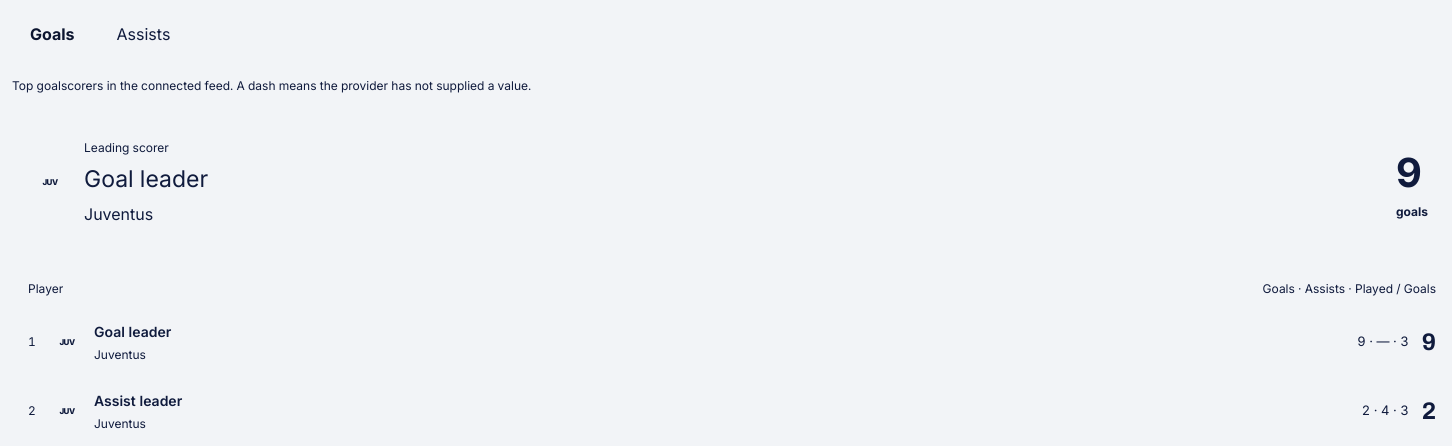
Test: business and player controls › switches to reported assists and excludes unknown values
Step 1. Click the button "Assists" → click(144, 34), box [99,12,188,56]
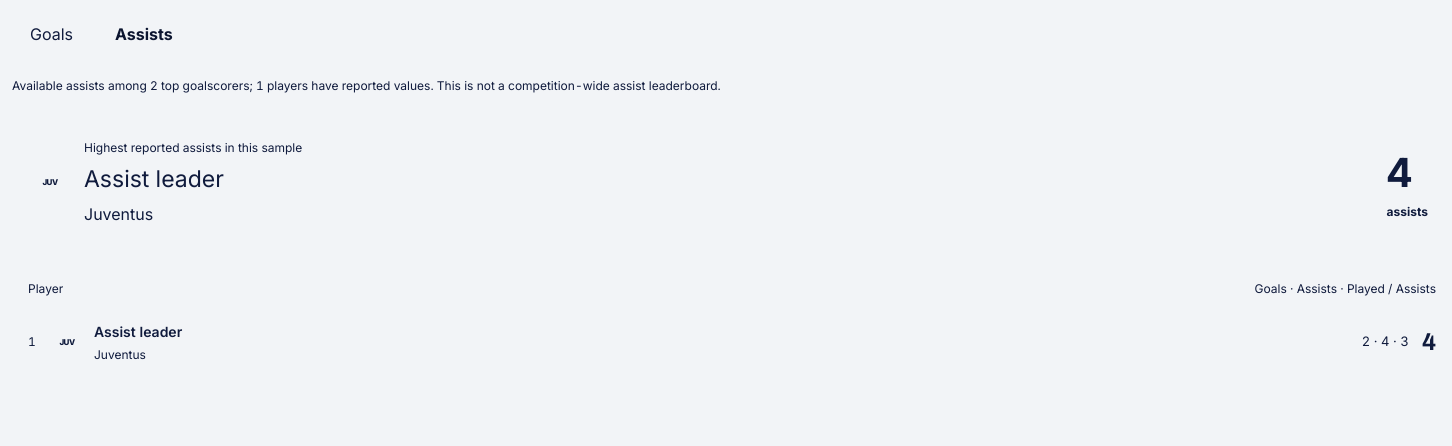
expect the text "not a competition-wide assist leaderboard" is shown: met, box [12,78,721,93]
expect the heading "Goal leader" is gone: met
expect the text named "4 assists" is shown: met, box [1422,324,1436,360]
